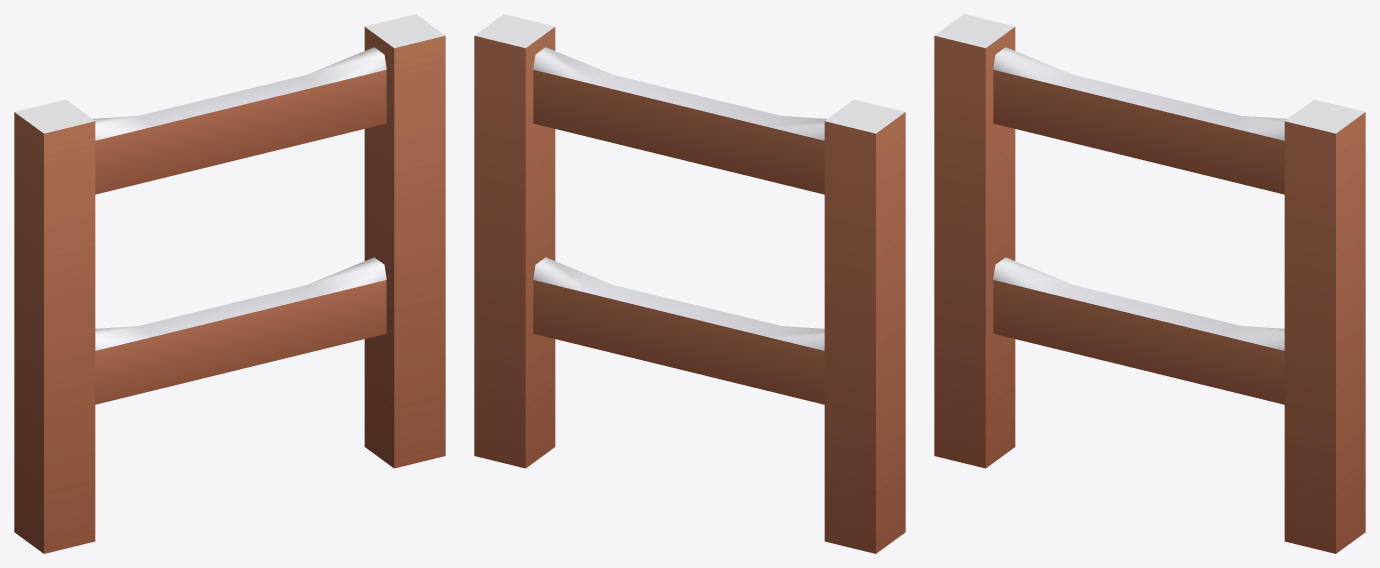
Rendered from snow-wood-structure-high-part.fbx.
The picture shows the model from 3 angles, left to right: view 1: azimuth 30°, elevation 25°; view 2: azimuth 150°, elevation 25°; view 3: azimuth 330°, elevation 25°; orthographic projection.
Visible parts, largest first — view 1: snow-wood-structure-high-part; view 2: snow-wood-structure-high-part; view 3: snow-wood-structure-high-part.
Part boxes in pixels (x1,y1,x2,y2): snow-wood-structure-high-part: (14,14,445,553); snow-wood-structure-high-part: (474,14,905,553); snow-wood-structure-high-part: (934,14,1365,553).
Size of the model in its own units: 100 by 100 by 12.8.
